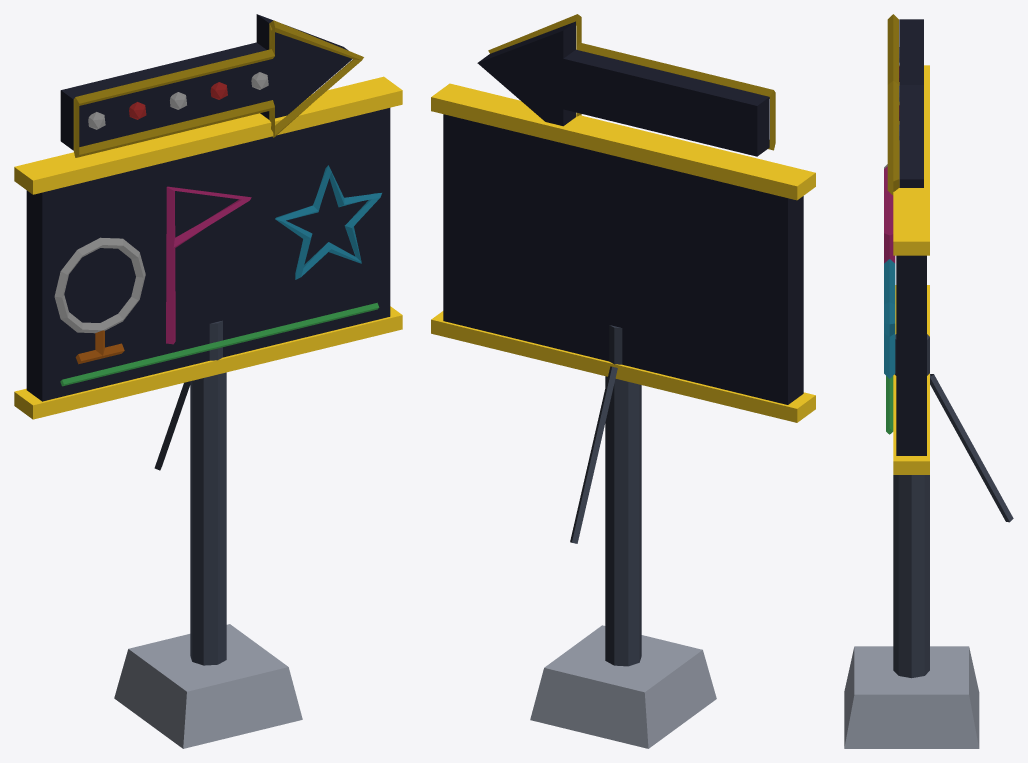
The model's file is neon-sign.glb.
3 renders of one model, left to right at view 1: azimuth 30°, elevation 25°; view 2: azimuth 150°, elevation 25°; view 3: azimuth 270°, elevation 25°, orthographic. The views are drawn at different scales.
Parts seen in each view (by area): view 1: neon-sign; view 2: neon-sign; view 3: neon-sign.
Boxes of the visible parts, x1,y1,x2,y2 form: neon-sign: [14, 14, 402, 748]; neon-sign: [431, 14, 815, 748]; neon-sign: [844, 14, 1013, 748].
Size of the model in its own units: 6.8 by 11.99 by 2.76.
Materials: 2 (2 with a texture image).
